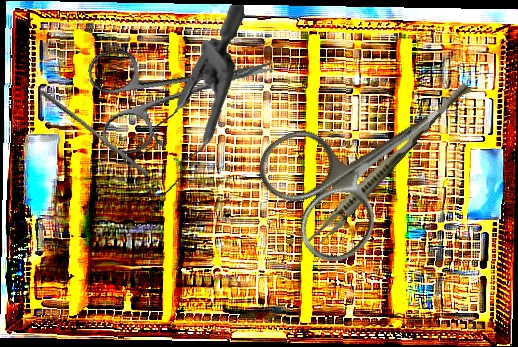Iris Scissors: (247, 56, 478, 274), (85, 19, 285, 158)
Pusher: (35, 88, 153, 178)
Speculum: (113, 4, 254, 199)
Tissue Forceps: (305, 76, 472, 254)
